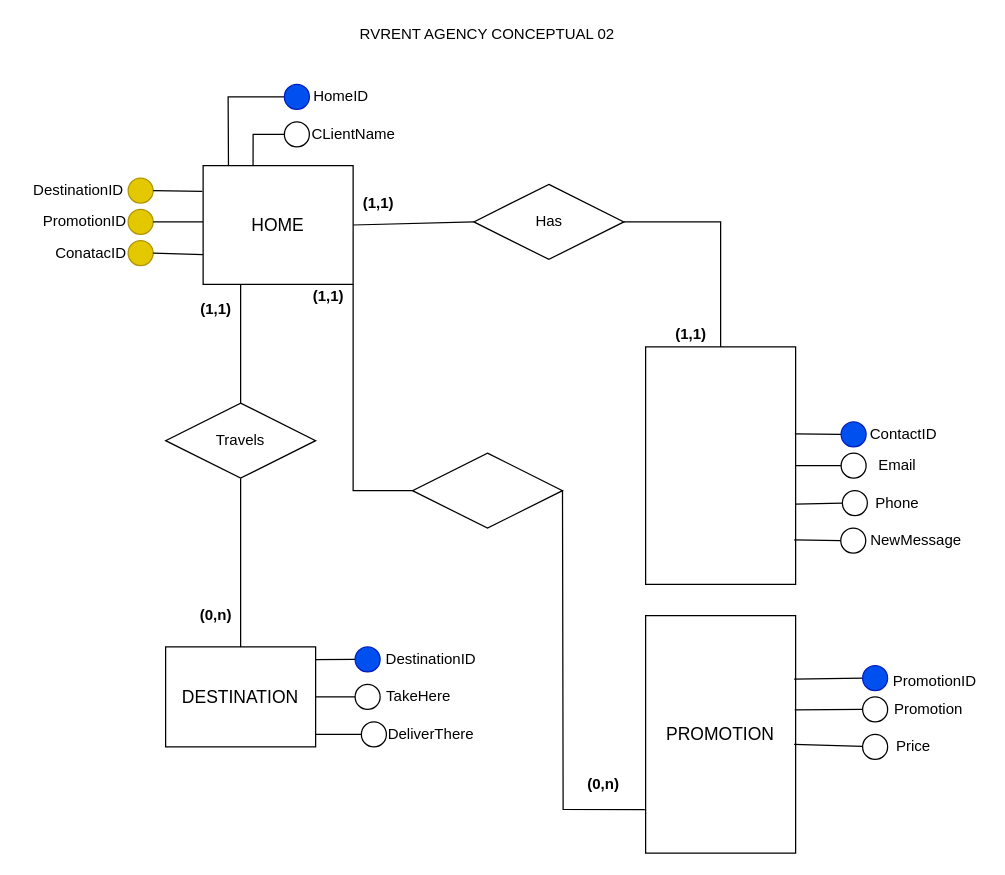
Some shapes in this 1005 by 875 pixel diagram are drawn without their labels. The centre of each missing label's shape, as x and y in pixels:
"CONTCT US" goes at point (720, 465).
"Get Promotion" goes at point (486, 490).
